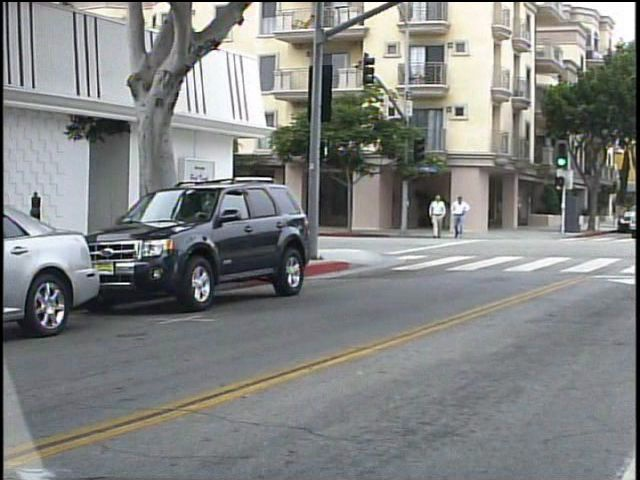person: (425, 190, 449, 243), (449, 191, 472, 243)
